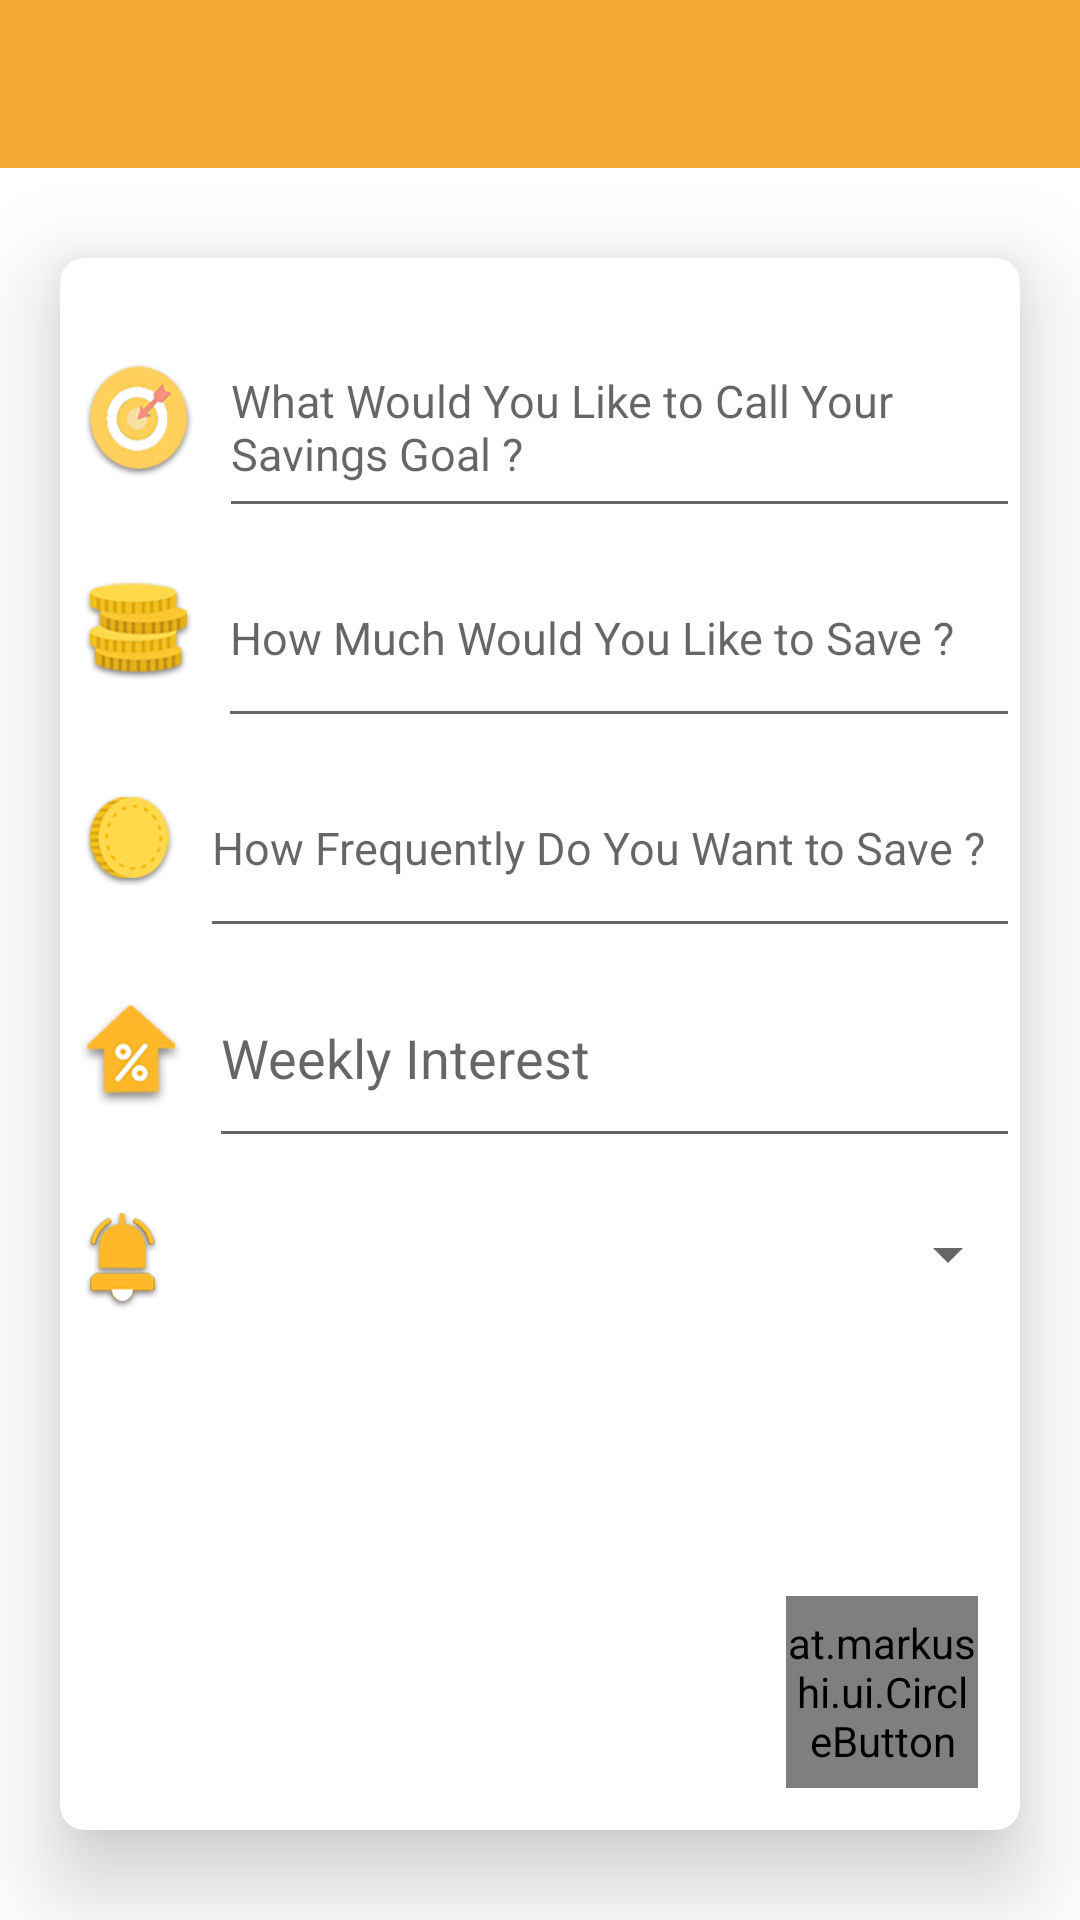

Where icons sit on this 1080*1920 app screen, as (x1, y1, x2, y2):
alarm: (88, 1213, 157, 1306)
target: (88, 366, 190, 474)
